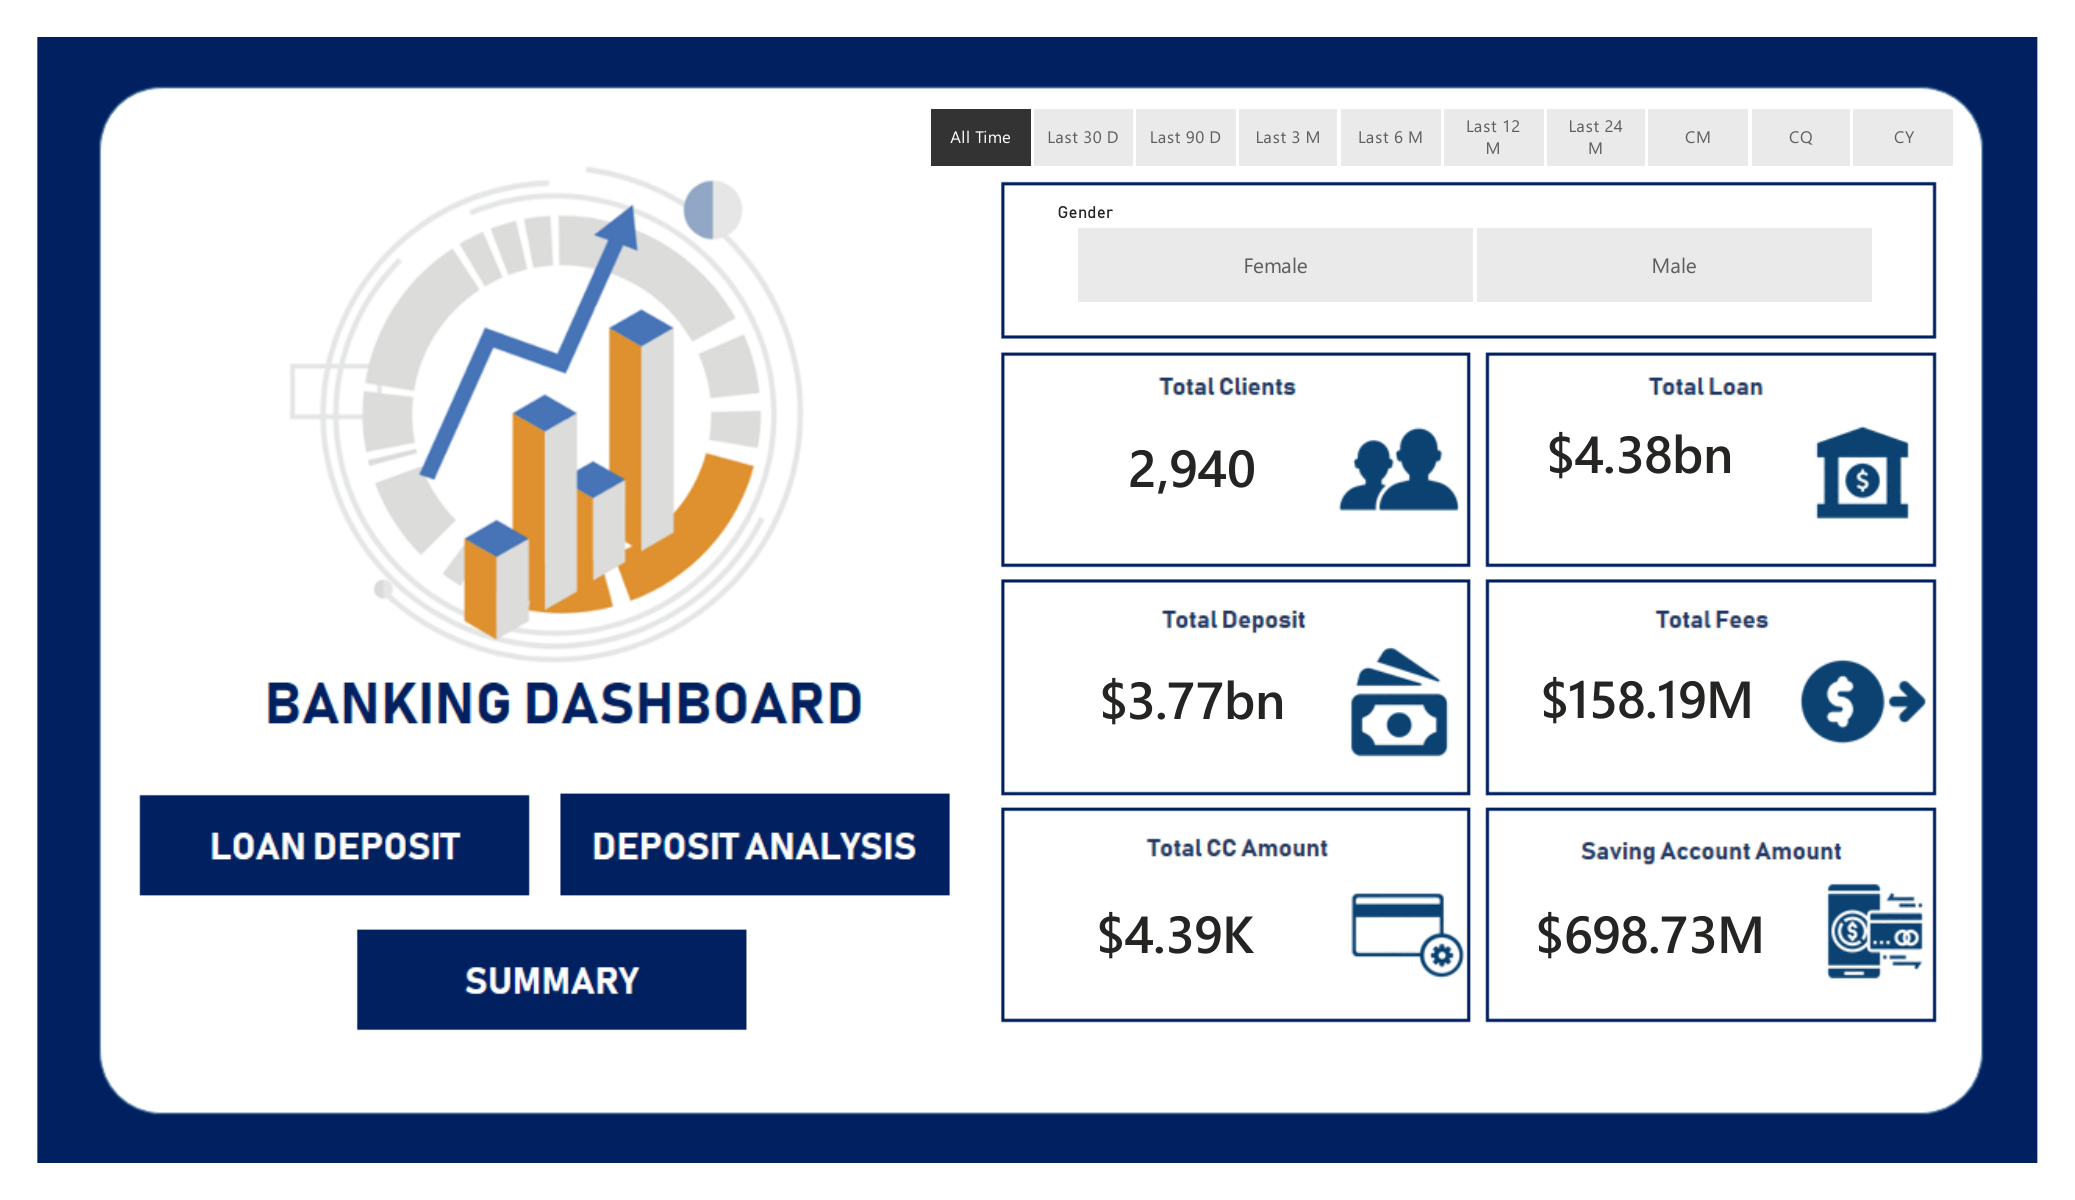

Layout of this report page (visuals, bound fields, positions):
{"tool":"powerbi","page":{"name":"Home","canvas":[1280,720],"ordinal":0},"visuals":[{"type":"card","fields":{"Values":["CountNonNull(Banking (1).Name)"]},"box":[586.2,278.8,199.9,80.6],"z":0},{"type":"slicer","fields":{"Values":["Banking (1).GenderId"]},"box":[653.4,149.5,584.6,73.9],"z":1000},{"type":"card","fields":{"Values":["Banking (1).Total Loan"]},"box":[957.5,285.6,199.9,80.6],"z":2000},{"type":"card","fields":{"Values":["Banking (1).Total Deposit"]},"box":[586.1,427.7,200.2,80.6],"z":3000},{"type":"slicer","fields":{"Values":["Banking (1).Year of Joining"]},"box":[673.9,83.5,565.9,38.9],"z":4000},{"type":"card","fields":{"Values":["Sum(Banking (1).Checking Accounts)"]},"box":[946.1,427.7,210.2,80.6],"z":5000},{"type":"card","fields":{"Values":["Sum(Banking (1).Saving Accounts)"]},"box":[557.3,568.8,211.7,80.6],"z":6000},{"type":"card","fields":{"Values":["Sum(Banking (1).Business Lending)"]},"box":[950.4,568.8,200.2,80.6],"z":7000},{"type":"actionButton","box":[93.6,417.6,172.8,60.5],"z":8000},{"type":"actionButton","box":[298.1,414.7,180,63.4],"z":9000},{"type":"actionButton","box":[194.4,508.3,172.8,73.4],"z":10000},{"type":"actionButton","box":[151.2,31.7,180,40.3],"z":11000},{"type":"actionButton","box":[355.7,31.7,201.6,40.3],"z":12000},{"type":"actionButton","box":[586.1,31.7,116.6,40.3],"z":13000}]}

Visuals, with their boxes on the page's 1280x720 design canvas (x1, y1, x2, y2). These are canvas units, not pixel positions in the 2075x1200 screenshot, which may show the page scaled, cropped or inside an application window:
card - CountNonNull(Banking (1).Name): crop(586, 279, 786, 359)
slicer - Banking (1).GenderId: crop(653, 150, 1238, 223)
card - Banking (1).Total Loan: crop(958, 286, 1157, 366)
card - Banking (1).Total Deposit: crop(586, 428, 786, 508)
slicer - Banking (1).Year of Joining: crop(674, 84, 1240, 122)
card - Sum(Banking (1).Checking Accounts): crop(946, 428, 1156, 508)
card - Sum(Banking (1).Saving Accounts): crop(557, 569, 769, 649)
card - Sum(Banking (1).Business Lending): crop(950, 569, 1151, 649)
actionButton: crop(94, 418, 266, 478)
actionButton: crop(298, 415, 478, 478)
actionButton: crop(194, 508, 367, 582)
actionButton: crop(151, 32, 331, 72)
actionButton: crop(356, 32, 557, 72)
actionButton: crop(586, 32, 703, 72)
